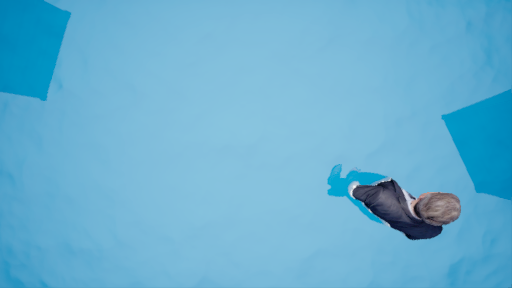person: (323, 161, 463, 247)
